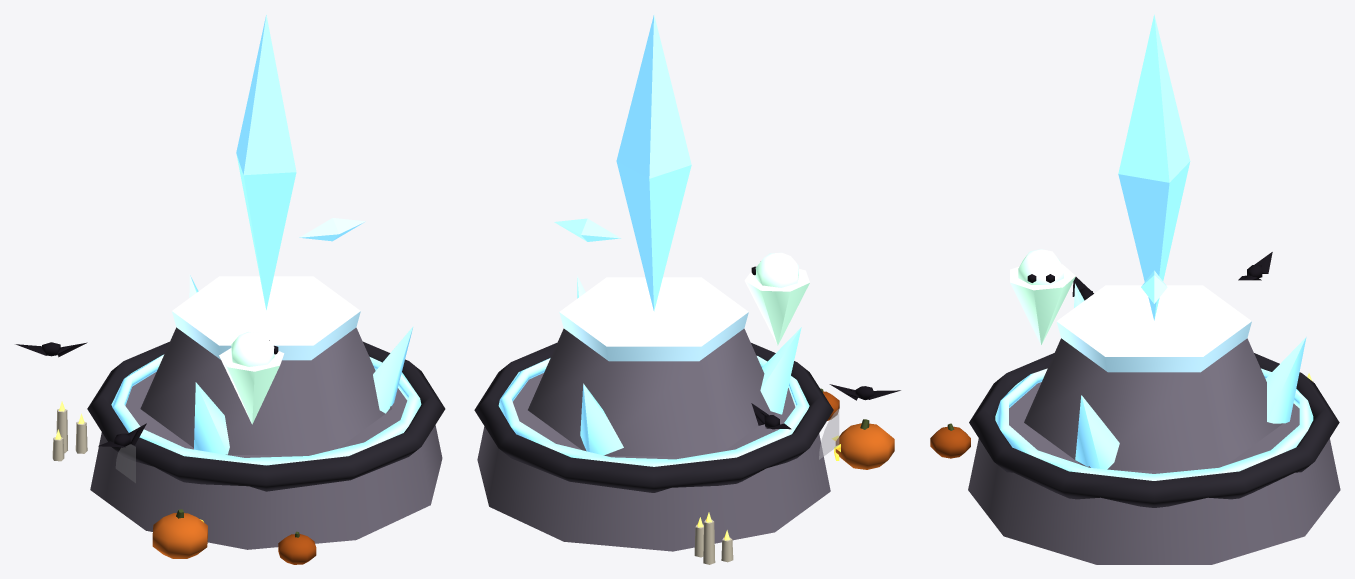
Rendered from tower_freeze.glb.
The picture shows the model from 3 angles, left to right: view 1: azimuth 30°, elevation 25°; view 2: azimuth 150°, elevation 25°; view 3: azimuth 270°, elevation 25°; orthographic projection. The views are drawn at different scales.
Visible parts, largest first — view 1: base, pedestal, base_rim, pedestal_frost, crystal, aura_ring, deco_hw_jack_body, deco_hw_ghost_sheet, side_crystal_1, side_crystal_0, deco_hw_ghost_head, deco_hw_candles (+3 smaller); view 2: base, pedestal, pedestal_frost, base_rim, crystal, aura_ring, deco_hw_ghost_sheet, deco_hw_jack_body, side_crystal_1, side_crystal_2, deco_hw_ghost_head, deco_hw_candles (+2 smaller); view 3: base, pedestal, pedestal_frost, base_rim, crystal, aura_ring, deco_hw_ghost_sheet, side_crystal_0, side_crystal_2, deco_hw_ghost_head, deco_hw_pumpkin_body.
Part boxes in pixels (x1,y1,x2,y2): base: (90,371,442,549); pedestal: (140,327,392,454); base_rim: (87,341,445,491); pedestal_frost: (172,276,360,360); crystal: (236,15,296,309); aura_ring: (111,354,421,465); deco_hw_jack_body: (152,513,207,558); deco_hw_ghost_sheet: (219,348,284,424); side_crystal_1: (194,382,229,454); side_crystal_0: (373,326,413,413); deco_hw_ghost_head: (231,332,274,366); deco_hw_candles: (52,401,87,461); base: (477,373,830,551); pedestal: (528,328,776,456); pedestal_frost: (559,277,748,361); base_rim: (474,343,833,492); crystal: (616,14,691,311); aura_ring: (498,356,809,466); deco_hw_ghost_sheet: (744,269,809,345); deco_hw_jack_body: (835,423,894,469); side_crystal_1: (760,327,801,414); side_crystal_2: (580,383,623,455); deco_hw_ghost_head: (755,252,798,287); deco_hw_candles: (694,512,733,564); base: (968,382,1340,564); pedestal: (1024,338,1282,470); pedestal_frost: (1056,285,1251,372); base_rim: (969,353,1339,507); crystal: (1118,14,1190,320); aura_ring: (995,368,1313,480); deco_hw_ghost_sheet: (1010,264,1075,345); side_crystal_0: (1075,395,1119,469); side_crystal_2: (1265,337,1306,423); deco_hw_ghost_head: (1018,249,1063,284); deco_hw_pumpkin_body: (930,426,970,458).
Bounding box in the file's own units: 0.4655 × 0.564 × 0.4404.
